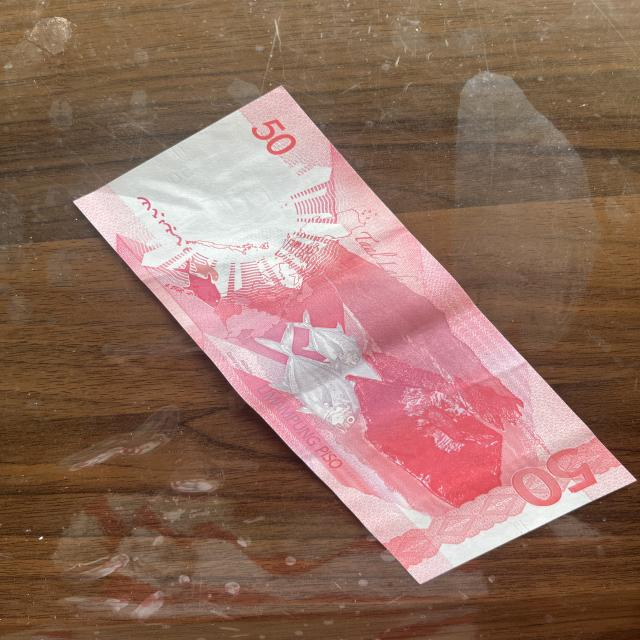50_maliputo: (245, 305, 392, 438)
50_maliputo_watermark: (170, 251, 244, 317)
value_watermark: (169, 152, 208, 186)
watermark: (156, 147, 287, 224)
